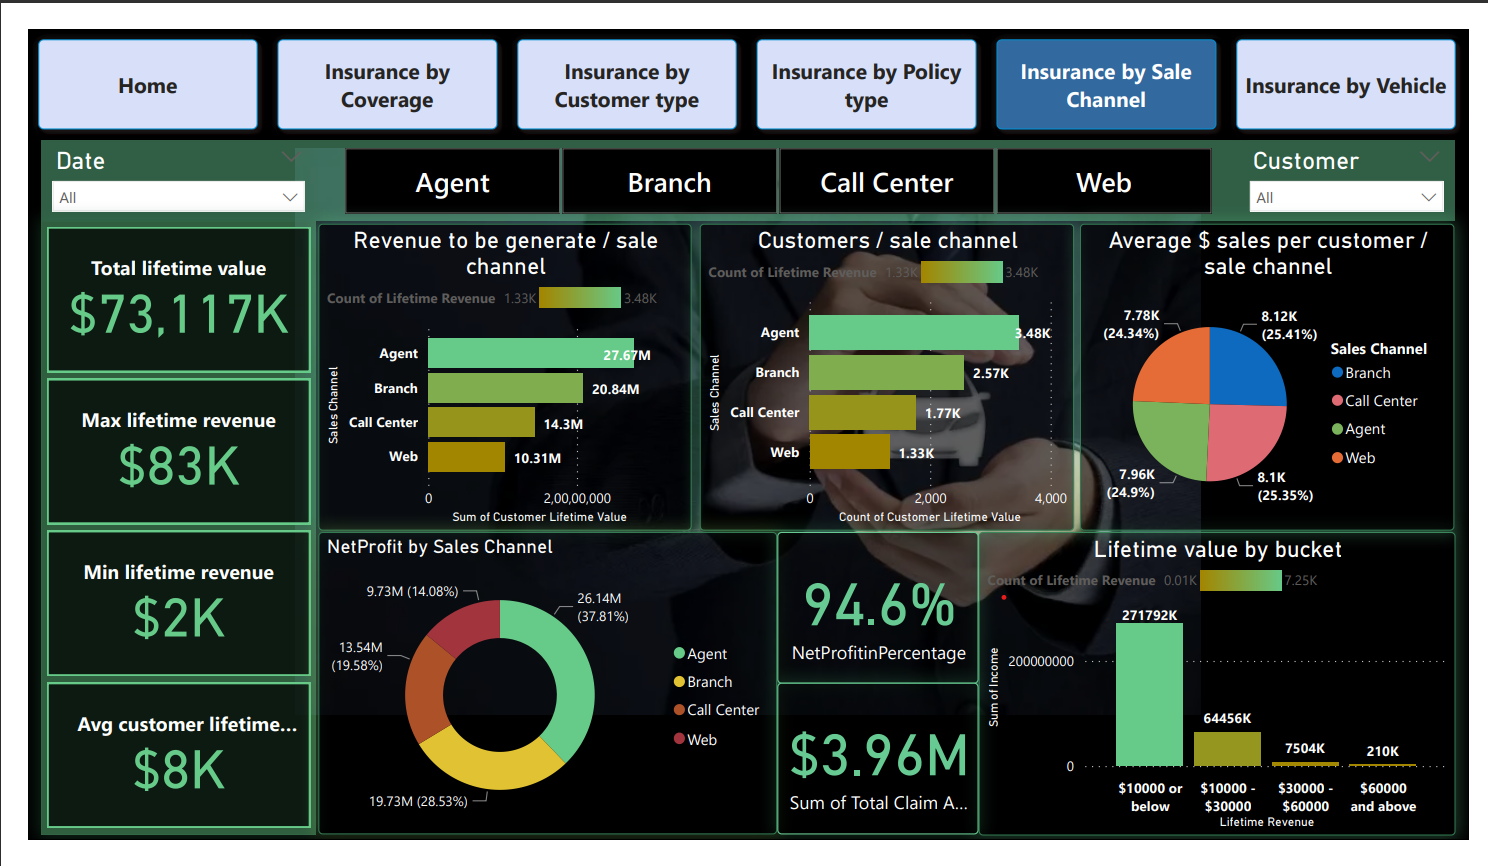

What the dashboard file says about the page in this screenshot:
{"tool":"powerbi","page":{"name":"Insurance by Sale Channel","canvas":[1280,720],"ordinal":4},"visuals":[{"type":"pageNavigator","box":[0,0,1280.6,98.7],"z":0},{"type":"slicer","fields":{"Values":["AutoInsurance.Sales Channel"]},"box":[255.6,98.8,820.3,72],"z":1000},{"type":"slicer","fields":{"Values":["date.Effective To Date"]},"box":[11.6,98.8,244,72],"z":2000},{"type":"slicer","fields":{"Values":["AutoInsurance 2.Customer"]},"box":[1076,98.8,191.7,72],"z":3000},{"type":"cardVisual","fields":{"Data":["Sum(AutoInsurance 3.Customer Lifetime Value)","Max(AutoInsurance 3.Customer Lifetime Value)","Min(AutoInsurance 3.Customer Lifetime Value)","Avg(AutoInsurance 3.Customer Lifetime Value)"]},"box":[11.6,170.8,244,545],"z":4000},{"type":"columnChart","title":"Lifetime value by bucket","fields":{"Category":["AutoInsurance 4.Lifetime Revenue"],"Y":["Sum(AutoInsurance 4.Income)"]},"box":[844.7,447.4,424.1,269.6],"z":5000},{"type":"barChart","title":"Revenue to be generate / sale channel","fields":{"Category":["AutoInsurance 4.Sales Channel"],"Y":["Sum(AutoInsurance 4.Customer Lifetime Value)"]},"box":[258,173.1,332.3,273.1],"z":6000},{"type":"barChart","title":"Customers / sale channel","fields":{"Category":["AutoInsurance 4.Sales Channel"],"Y":["CountNonNull(AutoInsurance 4.Customer Lifetime Value)"]},"box":[597.2,173.1,332.3,273.1],"z":7000},{"type":"pieChart","title":"Average $ sales per customer / sale channel","fields":{"Category":["AutoInsurance 4.Sales Channel"],"Y":["Avg(AutoInsurance 4.Customer Lifetime Value)"]},"box":[935.4,173.1,332.3,273.1],"z":8000},{"type":"donutChart","fields":{"Category":["AutoInsurance.Sales Channel"],"Y":["AutoInsurance.NetProfit"]},"box":[258,447.4,407.8,268.4],"z":9000},{"type":"card","fields":{"Values":["AutoInsurance.NetProfitinPercentage"]},"box":[665.8,447.4,178.9,134.8],"z":9001},{"type":"card","fields":{"Values":["Sum(AutoInsurance.Total Claim Amount)"]},"box":[665.8,581,178.9,134.8],"z":9002}]}

Visuals, with their boxes on the page's 1280x720 design canvas (x1, y1, x2, y2). These are canvas units, not pixel positions in the 1488x866 screenshot, which may show the page scaled, cropped or inside an application window:
pageNavigator: Rect(0, 0, 1281, 99)
slicer - AutoInsurance.Sales Channel: Rect(256, 99, 1076, 171)
slicer - date.Effective To Date: Rect(12, 99, 256, 171)
slicer - AutoInsurance 2.Customer: Rect(1076, 99, 1268, 171)
cardVisual - Sum(AutoInsurance 3.Customer Lifetime Value) x Max(AutoInsurance 3.Customer Lifetime Value): Rect(12, 171, 256, 716)
"Lifetime value by bucket" columnChart: Rect(845, 447, 1269, 717)
"Revenue to be generate / sale channel" barChart: Rect(258, 173, 590, 446)
"Customers / sale channel" barChart: Rect(597, 173, 930, 446)
"Average $ sales per customer / sale channel" pieChart: Rect(935, 173, 1268, 446)
donutChart - AutoInsurance.Sales Channel x AutoInsurance.NetProfit: Rect(258, 447, 666, 716)
card - AutoInsurance.NetProfitinPercentage: Rect(666, 447, 845, 582)
card - Sum(AutoInsurance.Total Claim Amount): Rect(666, 581, 845, 716)
